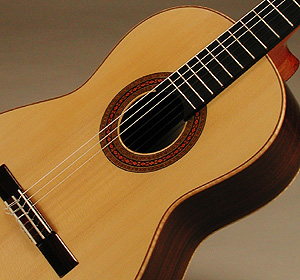guitar: (1, 1, 300, 280)
